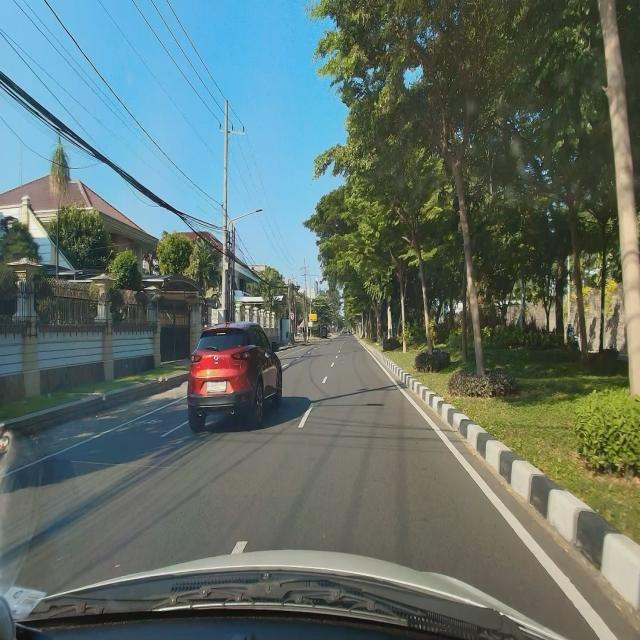car: (186, 317, 284, 437)
license-plate: (206, 379, 227, 393)
